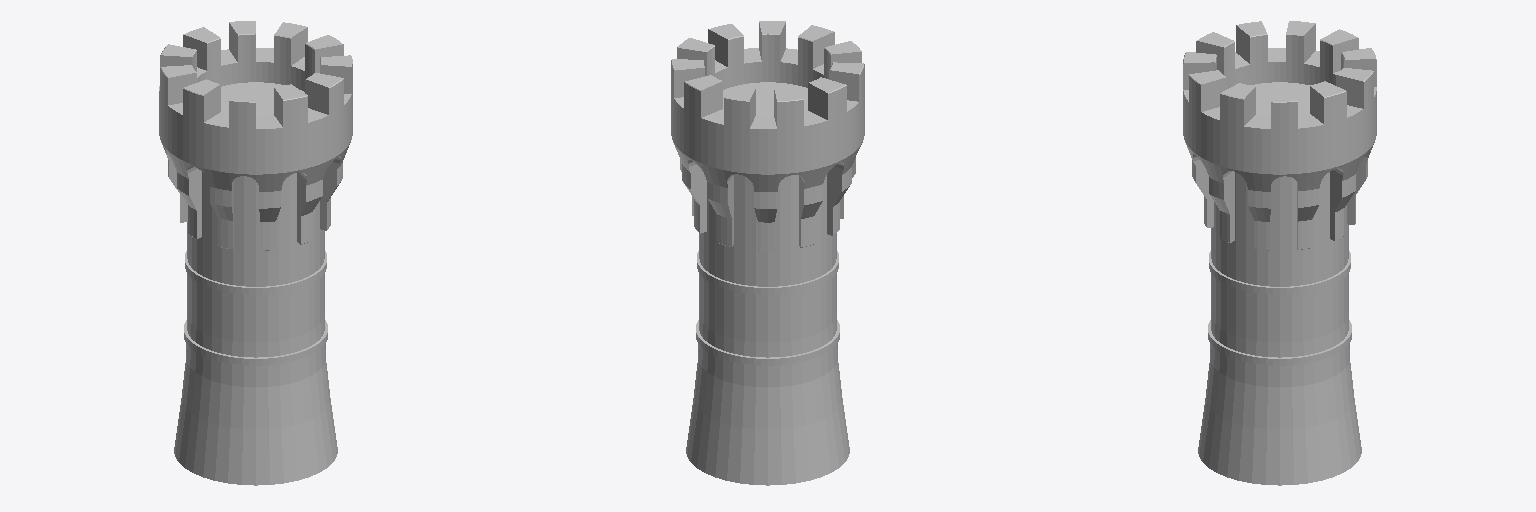
The model's file is tower.obj.
3 views of the same model, side by side, from view 1: azimuth 30°, elevation 25°; view 2: azimuth 150°, elevation 25°; view 3: azimuth 270°, elevation 25° (orthographic).
Visible parts, largest first — view 1: Tower.015, Tower.007, Tower.014, Tower.005, Tower.009, Tower.003, Tower.011; view 2: Tower.015, Tower.007, Tower.014, Tower.005, Tower.009, Tower.008, Tower.004; view 3: Tower.015, Tower.007, Tower.014, Tower.005, Tower.009, Tower.012, Tower.003, Tower.001.
Part boxes in pixels (bbox=[...]): Tower.015: bbox=[174, 172, 337, 485]; Tower.007: bbox=[159, 21, 352, 250]; Tower.014: bbox=[184, 320, 327, 365]; Tower.005: bbox=[185, 251, 326, 294]; Tower.009: bbox=[221, 82, 304, 115]; Tower.003: bbox=[320, 156, 340, 230]; Tower.011: bbox=[187, 166, 201, 238]; Tower.015: bbox=[686, 174, 849, 485]; Tower.007: bbox=[671, 21, 864, 250]; Tower.014: bbox=[696, 320, 839, 365]; Tower.005: bbox=[697, 251, 838, 294]; Tower.009: bbox=[723, 82, 807, 115]; Tower.008: bbox=[688, 160, 706, 233]; Tower.004: bbox=[827, 162, 843, 235]; Tower.015: bbox=[1198, 172, 1361, 485]; Tower.007: bbox=[1183, 21, 1376, 250]; Tower.014: bbox=[1208, 320, 1351, 365]; Tower.005: bbox=[1209, 251, 1350, 294]; Tower.009: bbox=[1250, 82, 1309, 115]; Tower.012: bbox=[1330, 168, 1343, 240]; Tower.003: bbox=[1193, 154, 1213, 227]; Tower.001: bbox=[1223, 171, 1234, 242].
Bounding box in the file's own units: 274 × 609 × 274.